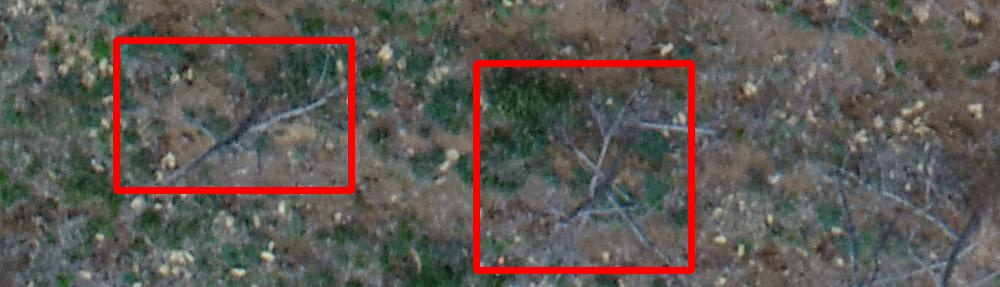apple: (476, 63, 691, 270), (116, 40, 351, 190)
